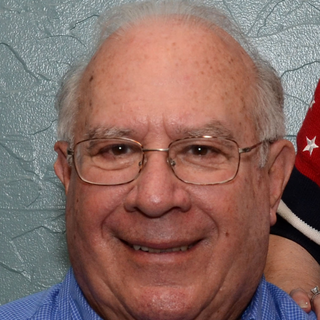eye: (180, 139, 225, 163), (97, 139, 141, 162)
